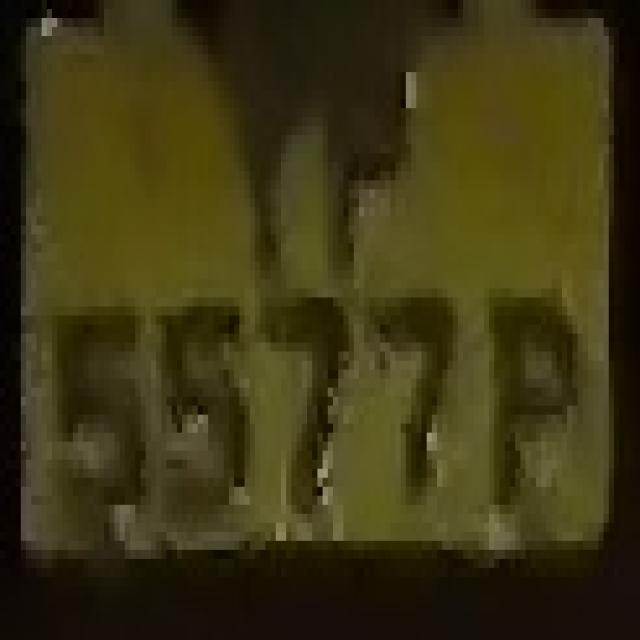5: (42, 270, 156, 532), (156, 252, 250, 523)
7: (343, 225, 453, 541), (244, 261, 348, 532)
P: (468, 243, 588, 523), (312, 18, 411, 279)
Y: (214, 9, 318, 270)
